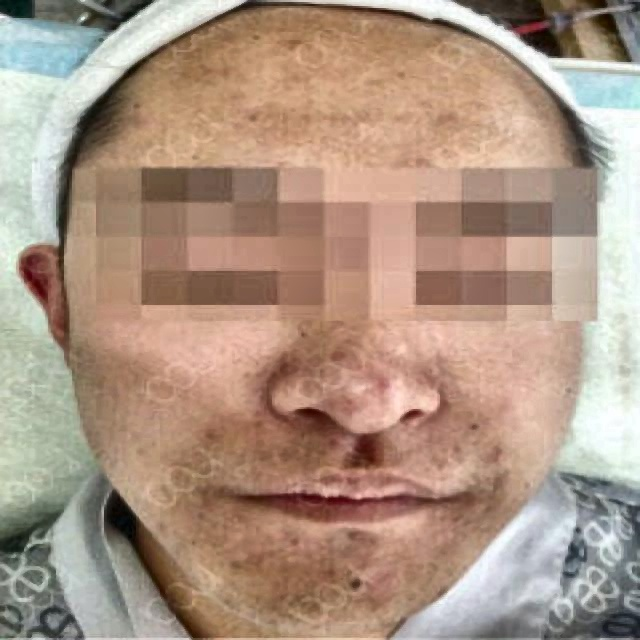comedone: (376, 368, 401, 396)
